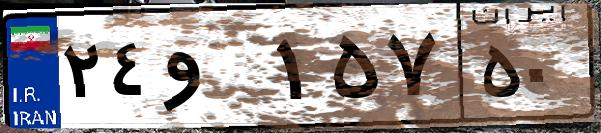0: (525, 38, 570, 115)
1: (270, 28, 330, 110)
2: (57, 26, 110, 100)
4: (110, 28, 158, 98)
5: (330, 28, 385, 110), (475, 38, 525, 113)
7: (385, 28, 445, 110)
و: (158, 20, 270, 120)
